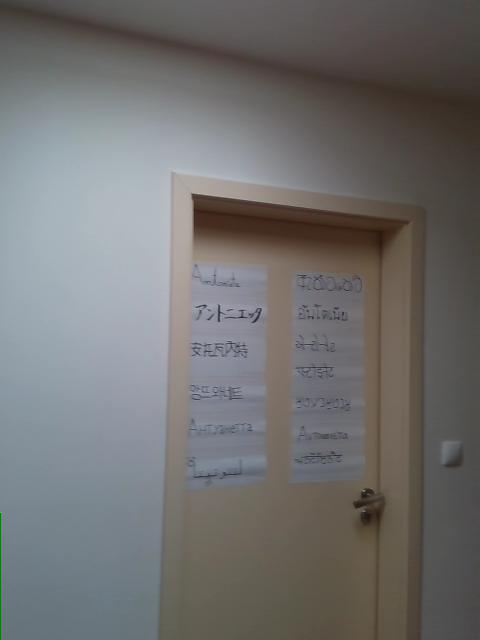door: (184, 211, 380, 639)
